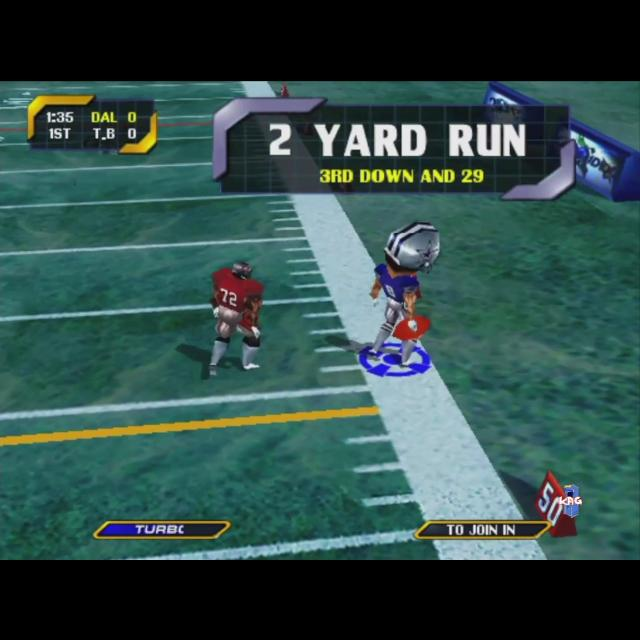player: (369, 220, 439, 366), (208, 260, 264, 376)
